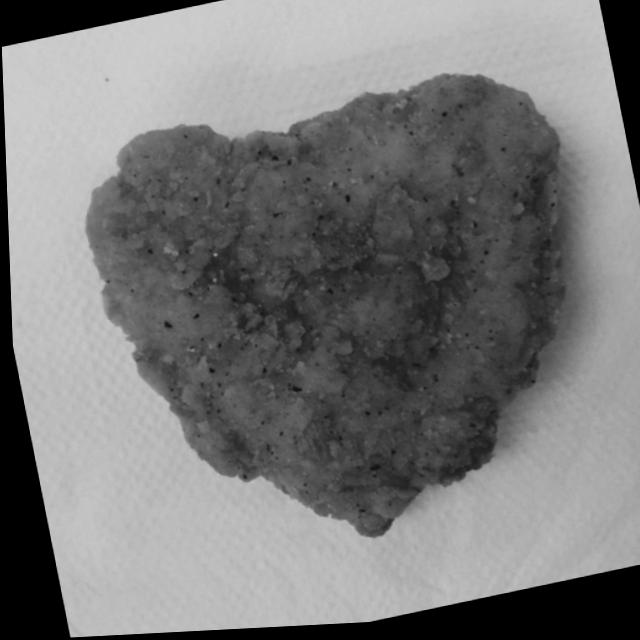鸡肉料理 含炸鸡: (35, 0, 640, 633)
